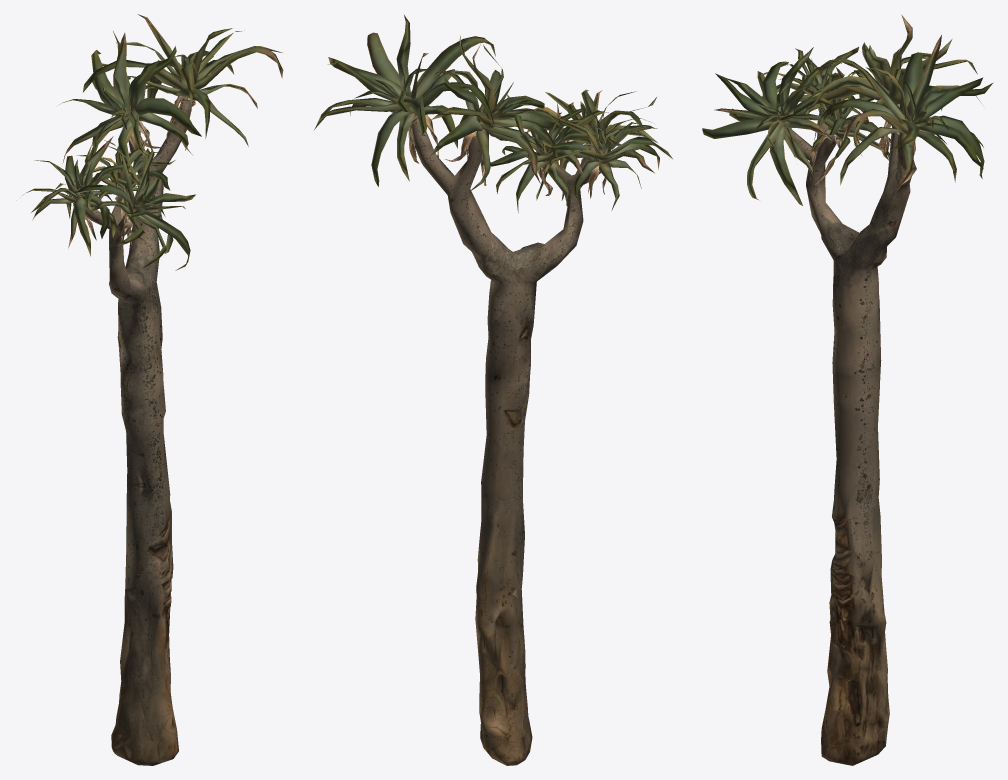
File: quiver_tree_01.glb
The picture shows the model from 3 angles, left to right: view 1: azimuth 30°, elevation 25°; view 2: azimuth 150°, elevation 25°; view 3: azimuth 270°, elevation 25°; orthographic projection. The views are drawn at different scales.
Parts seen in each view (by area): view 1: quiver_tree_01; view 2: quiver_tree_01; view 3: quiver_tree_01.
Boxes of the visible parts, x1,y1,x2,y2 form: quiver_tree_01: (16,14,283,765); quiver_tree_01: (314,15,672,765); quiver_tree_01: (702,14,993,765).
Bounding box in the file's own units: 1.18 × 2.72 × 0.9615.
2 materials, 2 textured.
